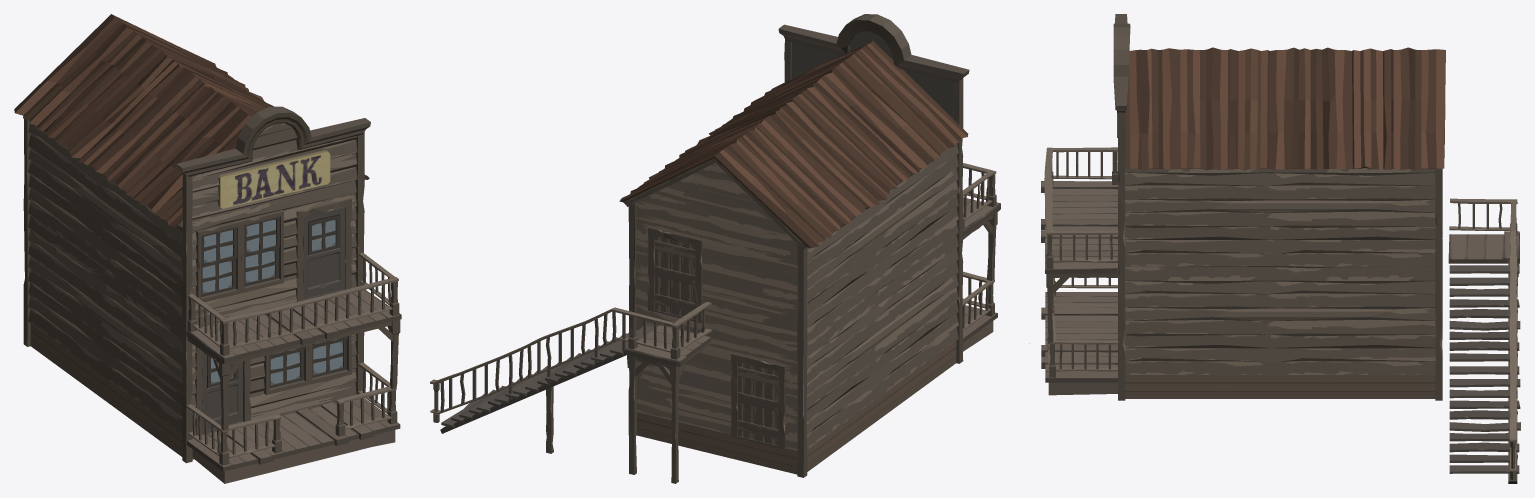
The model's file is Bank.glb.
3 views of the same model, side by side, from view 1: azimuth 30°, elevation 25°; view 2: azimuth 150°, elevation 25°; view 3: azimuth 270°, elevation 25° (orthographic).
Parts seen in each view (by area): view 1: SM_Bld_DeckSteps_01__5_, Door; view 2: SM_Bld_DeckSteps_01__5_; view 3: SM_Bld_DeckSteps_01__5_.
Part boxes in pixels (x1,y1,x2,y2): SM_Bld_DeckSteps_01__5_: (14,14,401,483); Door: (202,352,242,431); SM_Bld_DeckSteps_01__5_: (430,14,1000,483); SM_Bld_DeckSteps_01__5_: (1029,14,1520,483).
Bounding box in the file's own units: 10.45 × 9.42 × 12.4.
Materials: 4 (4 with a texture image).
